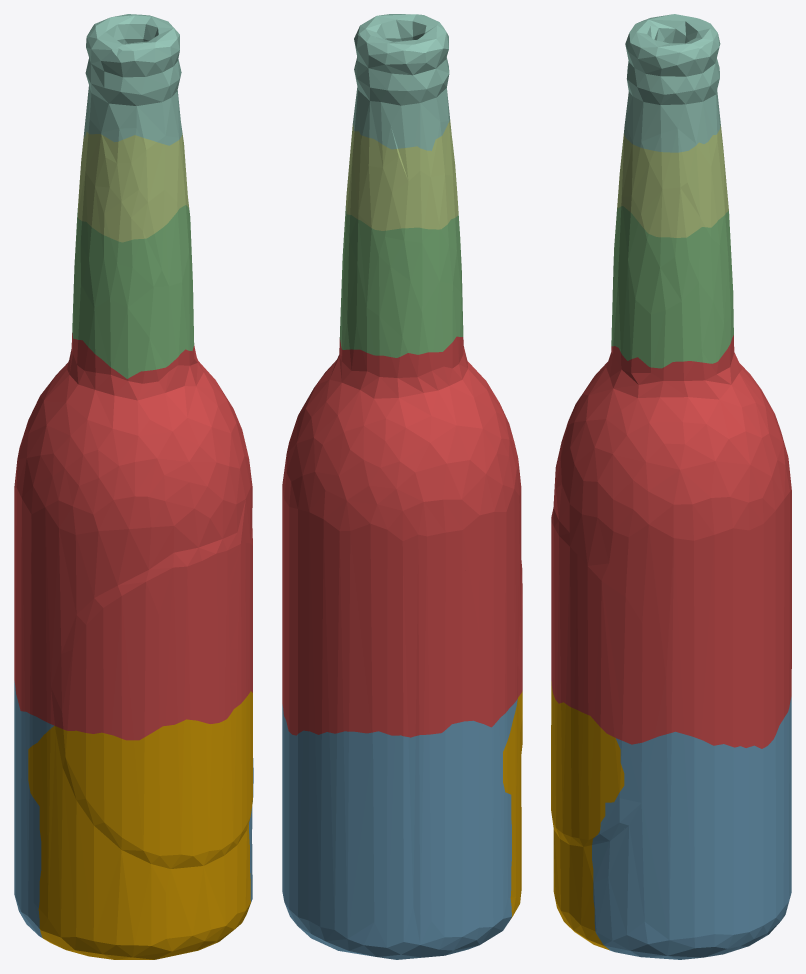
The model's file is fractured_77_6pcs.glb.
3 renders of one model, left to right at view 1: azimuth 30°, elevation 25°; view 2: azimuth 150°, elevation 25°; view 3: azimuth 270°, elevation 25°, orthographic.
Parts seen in each view (by area): view 1: piece_1.obj, piece_0.obj, piece_3.obj, piece_4.obj, piece_5.obj, piece_2.obj; view 2: piece_1.obj, piece_2.obj, piece_3.obj, piece_4.obj, piece_5.obj, piece_0.obj; view 3: piece_1.obj, piece_2.obj, piece_3.obj, piece_4.obj, piece_0.obj, piece_5.obj.
Boxes of the visible parts, <box> form: piece_1.obj: <box>14,333,252,740</box>; piece_0.obj: <box>28,691,252,959</box>; piece_3.obj: <box>72,205,194,378</box>; piece_4.obj: <box>84,14,182,145</box>; piece_5.obj: <box>78,130,189,242</box>; piece_2.obj: <box>14,681,253,937</box>; piece_1.obj: <box>282,336,522,737</box>; piece_2.obj: <box>282,699,517,959</box>; piece_3.obj: <box>339,206,463,357</box>; piece_4.obj: <box>352,14,449,150</box>; piece_5.obj: <box>346,119,458,230</box>; piece_0.obj: <box>503,691,522,919</box>; piece_1.obj: <box>551,335,791,748</box>; piece_2.obj: <box>592,697,791,959</box>; piece_3.obj: <box>611,206,733,368</box>; piece_4.obj: <box>624,14,720,152</box>; piece_0.obj: <box>551,681,624,950</box>; piece_5.obj: <box>617,125,728,237</box>.
Size of the model in its own units: 0.2434 by 1 by 0.246.
